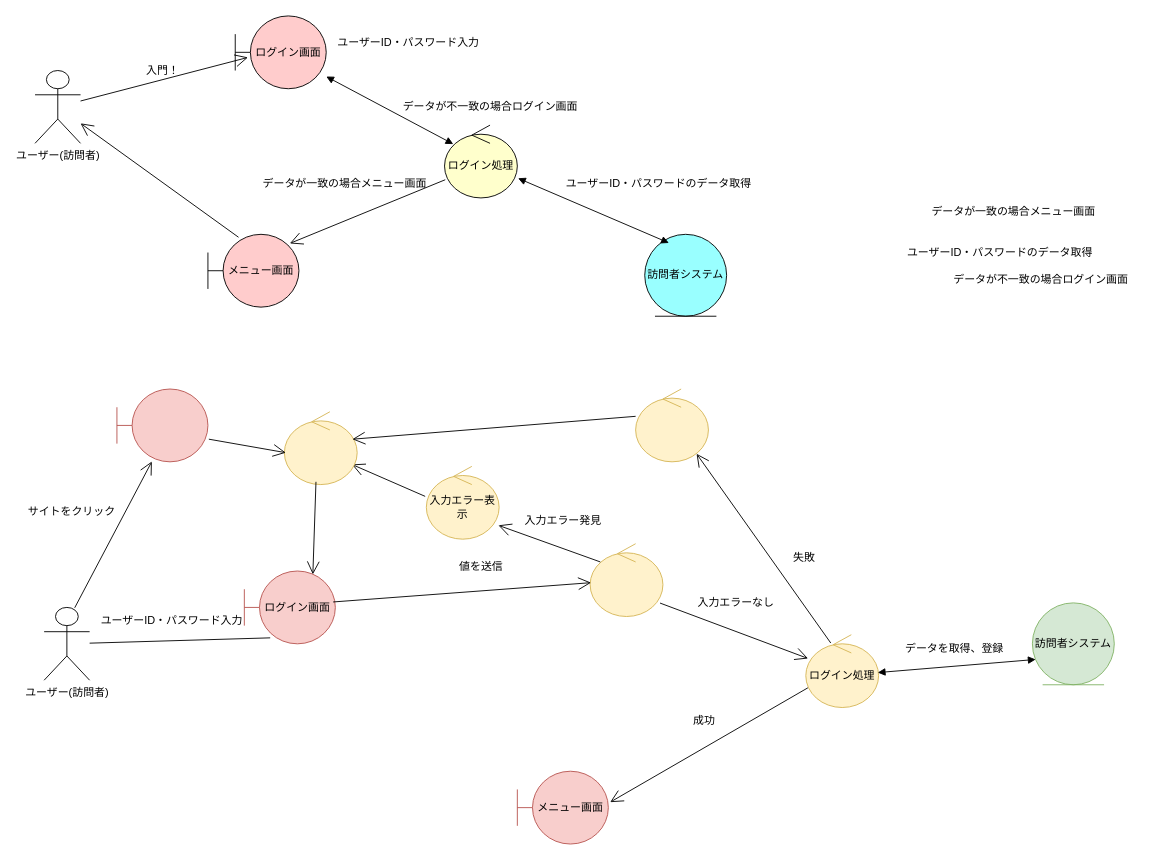
This 1156x860 diagram has some shape labels left out. Each missing label, with the centre of its shape:
"webブラウザ" belongs at (x=162, y=425).
"ログイン失敗(エラー)表示" belongs at (x=671, y=425).
"ログイン画面表示" belongs at (x=320, y=448).
"入力文字確認 処理" belongs at (x=626, y=580).
